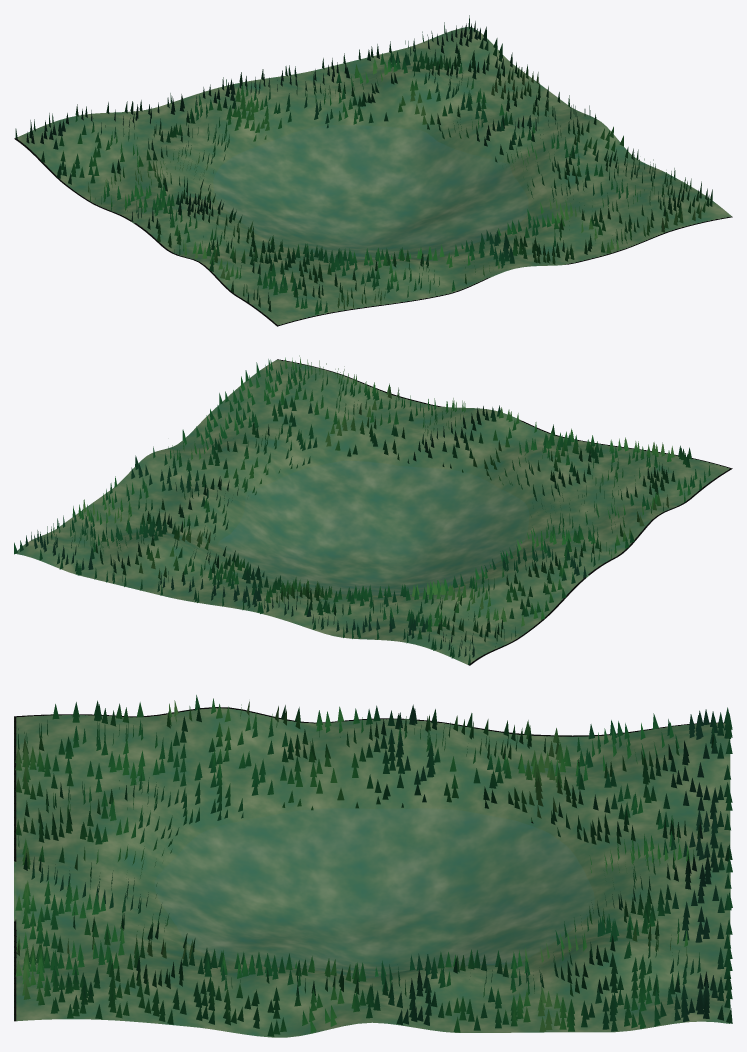
The model's file is Just_a_Lake_Low_Poly.glb.
The picture shows the model from 3 angles, top to bottom: view 1: azimuth 30°, elevation 25°; view 2: azimuth 150°, elevation 25°; view 3: azimuth 270°, elevation 25°; orthographic projection. The views are drawn at different scales.
Visible parts, largest first — view 1: Lake_Land_0, Lake_Trees_0; view 2: Lake_Land_0, Lake_Trees_0; view 3: Lake_Land_0, Lake_Trees_0.
Boxes of the visible parts, box(x1,y1,x2,y2) form: Lake_Land_0: box(14, 26, 732, 326); Lake_Trees_0: box(15, 15, 712, 314); Lake_Land_0: box(15, 359, 732, 665); Lake_Trees_0: box(14, 355, 710, 664); Lake_Land_0: box(14, 707, 730, 1037); Lake_Trees_0: box(15, 695, 732, 1036).
Size of the model in its own units: 40.03 by 6.08 by 40.16.
3 materials, 3 textured.
